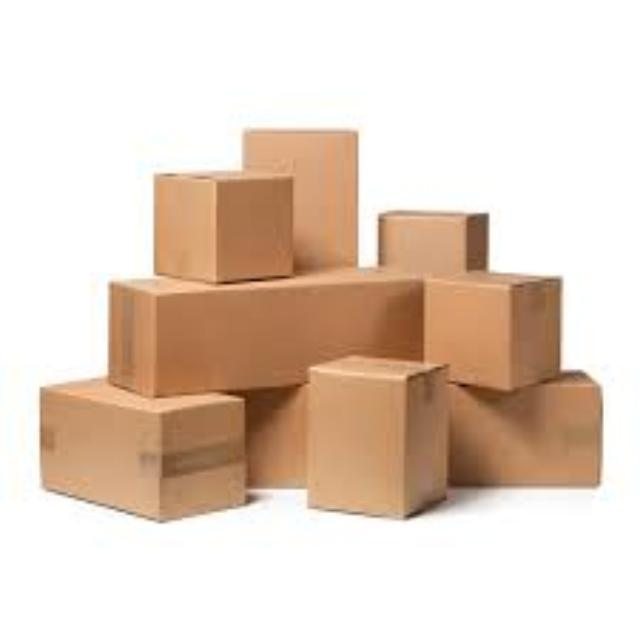cardboard paper: (108, 270, 421, 393), (40, 378, 245, 518), (304, 353, 444, 512), (449, 370, 600, 484), (242, 128, 356, 270), (421, 270, 555, 384), (151, 174, 287, 276), (378, 210, 486, 273)
